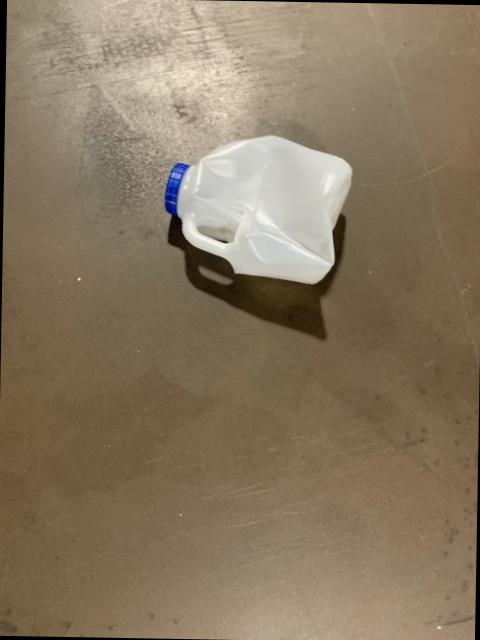plastic: (165, 136, 352, 284)
